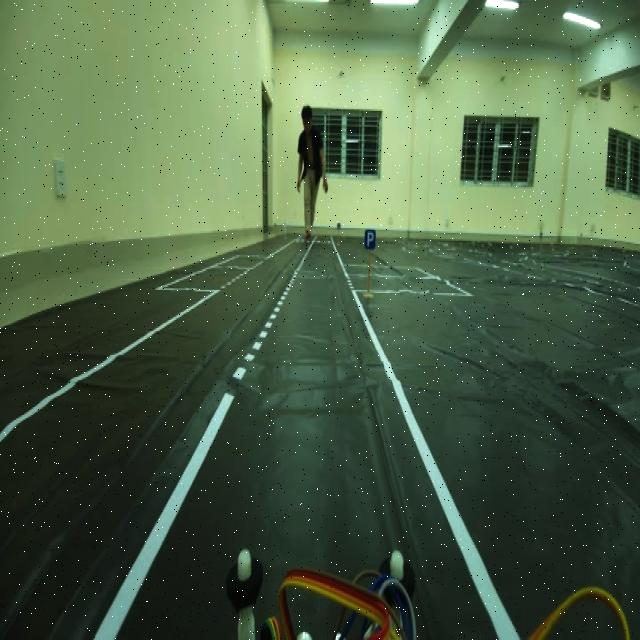parking: (362, 220, 380, 255)
